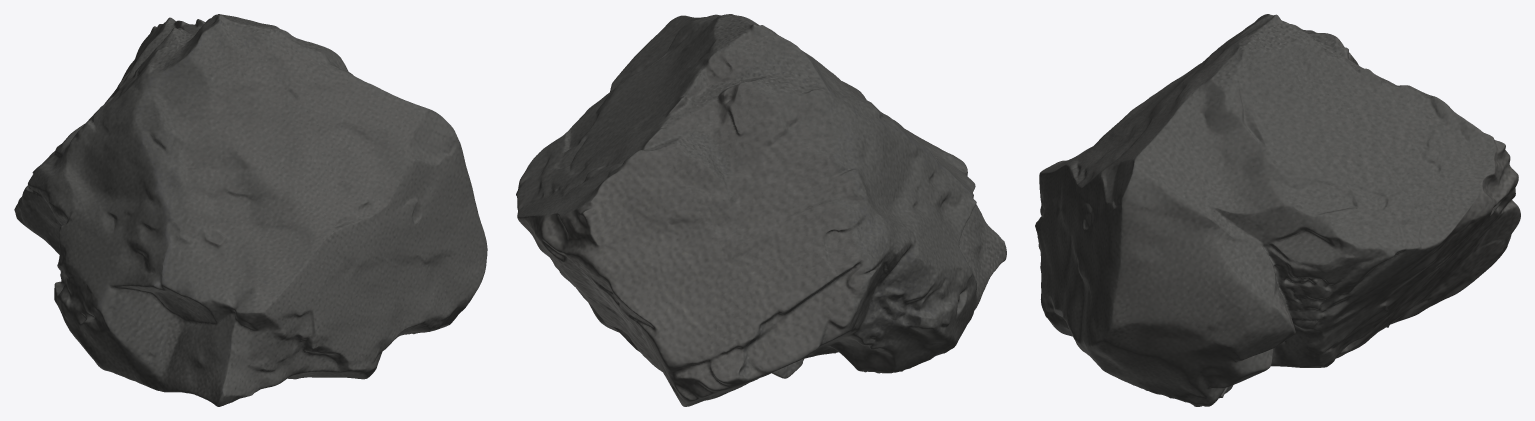
Rendered from Meshy_AI_Lone_Boulder_0928161951_texture.fbx.
3 views of the same model, side by side, from view 1: azimuth 30°, elevation 25°; view 2: azimuth 150°, elevation 25°; view 3: azimuth 270°, elevation 25° (orthographic). The views are drawn at different scales.
Parts seen in each view (by area): view 1: Mesh_0; view 2: Mesh_0; view 3: Mesh_0.
Part boxes in pixels (x1,y1,x2,y2): Mesh_0: (14, 14, 487, 406); Mesh_0: (516, 14, 1006, 406); Mesh_0: (1035, 14, 1520, 406).
Bounding box in the file's own units: 167 × 136 × 190.
Materials: 1 (1 with a texture image).
